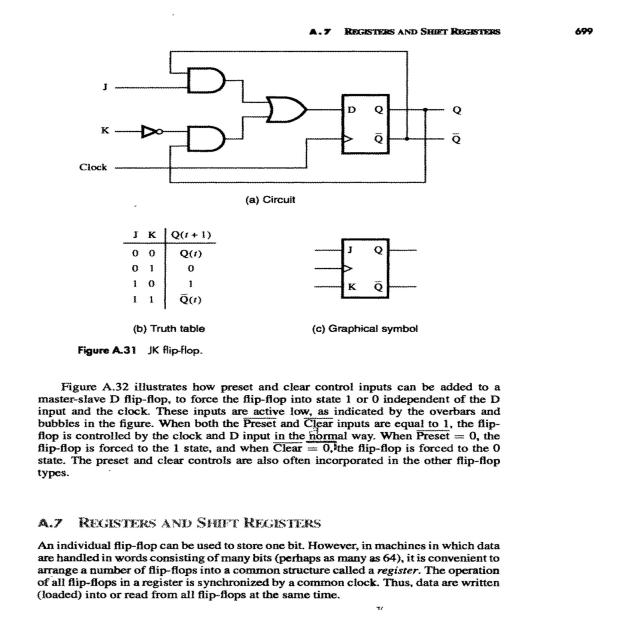diagram: (9, 43, 534, 362)
